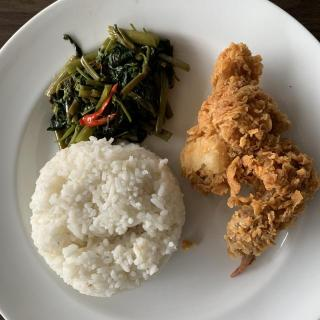Nasi: (31, 138, 186, 299)
